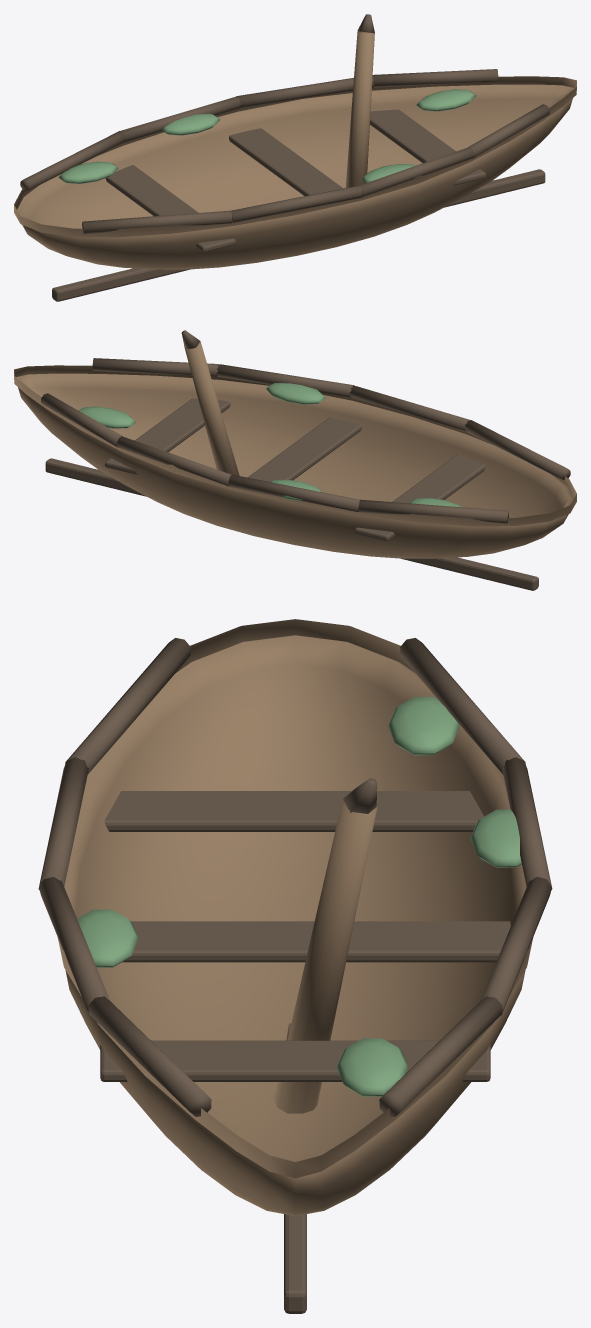
The model's file is rowboat.glb.
3 renders of one model, top to bottom at view 1: azimuth 30°, elevation 25°; view 2: azimuth 150°, elevation 25°; view 3: azimuth 270°, elevation 25°, orthographic. The views are drawn at different scales.
Visible parts, largest first — view 1: rowboat; view 2: rowboat; view 3: rowboat.
Part boxes in pixels (left/top/right/bottom): rowboat: left=14, top=14, right=576, bottom=301; rowboat: left=14, top=330, right=576, bottom=590; rowboat: left=38, top=619, right=552, bottom=1313.
Bounding box in the file's own units: 5 × 1.65 × 2.
